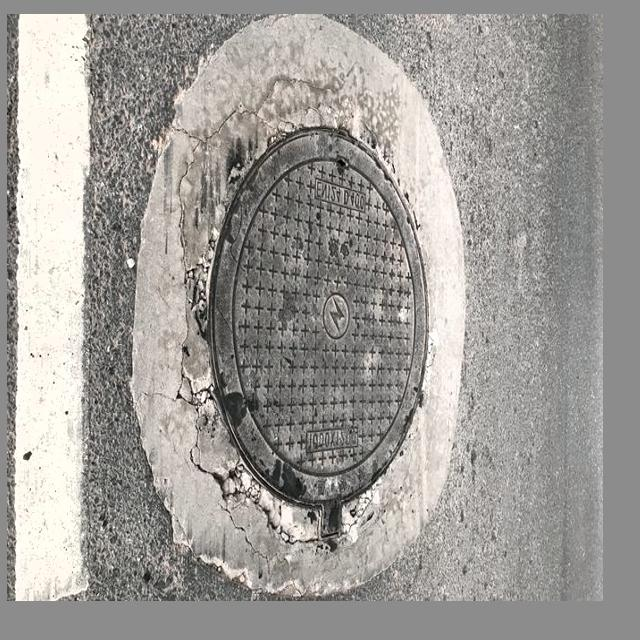circle: (133, 30, 464, 589)
